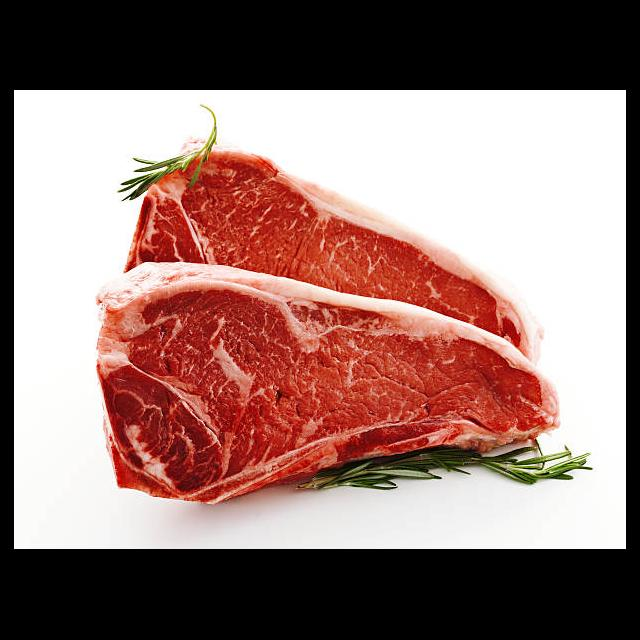beef: (93, 137, 559, 508)
